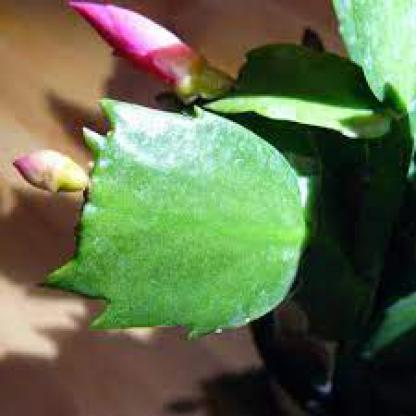Aglonema: (155, 28, 321, 414)
